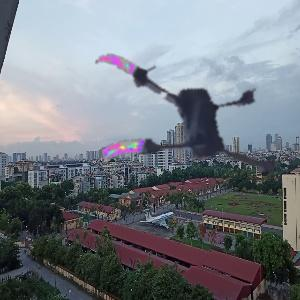drone: (75, 23, 286, 234)
